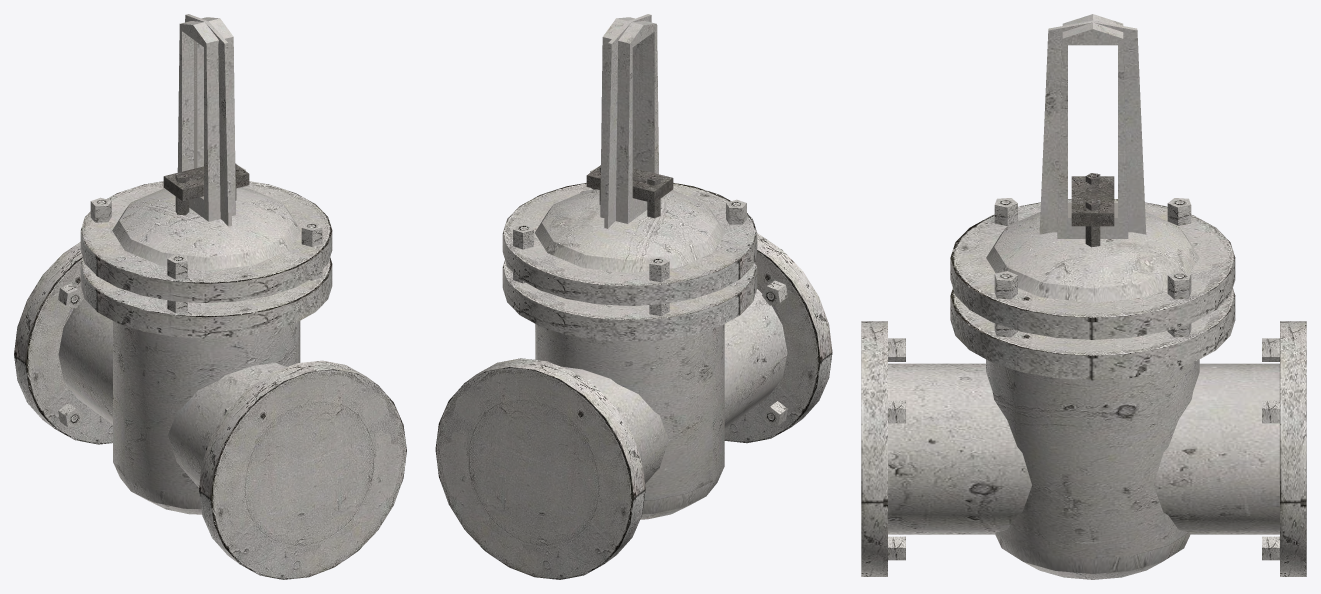
The model's file is valve001.glb.
3 renders of one model, left to right at view 1: azimuth 30°, elevation 25°; view 2: azimuth 150°, elevation 25°; view 3: azimuth 270°, elevation 25°, orthographic. The views are drawn at different scales.
Parts seen in each view (by area): view 1: 0_valve001_skin1; view 2: 0_valve001_skin1; view 3: 0_valve001_skin1.
Boxes of the visible parts, x1=… form: 0_valve001_skin1: x1=14, y1=14, x2=406, y2=579; 0_valve001_skin1: x1=435, y1=14, x2=832, y2=579; 0_valve001_skin1: x1=861, y1=14, x2=1306, y2=579.
Bounding box in the file's own units: 0.4064 × 0.856 × 0.635.
1 material, 1 textured.
